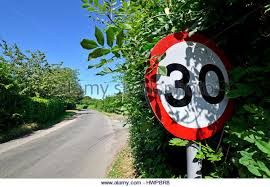Speed_limit_30km: (145, 32, 236, 139)
